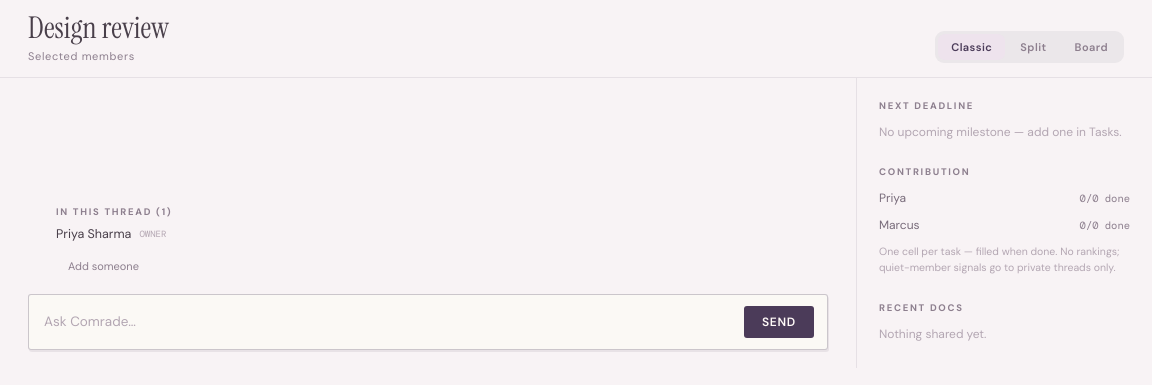
Scenario: managing who is in a restricted thread › adding someone warns that they get the whole history first
Click the button "Add someone" at (103, 266), box top-left (56, 250), bottom-right (151, 282)
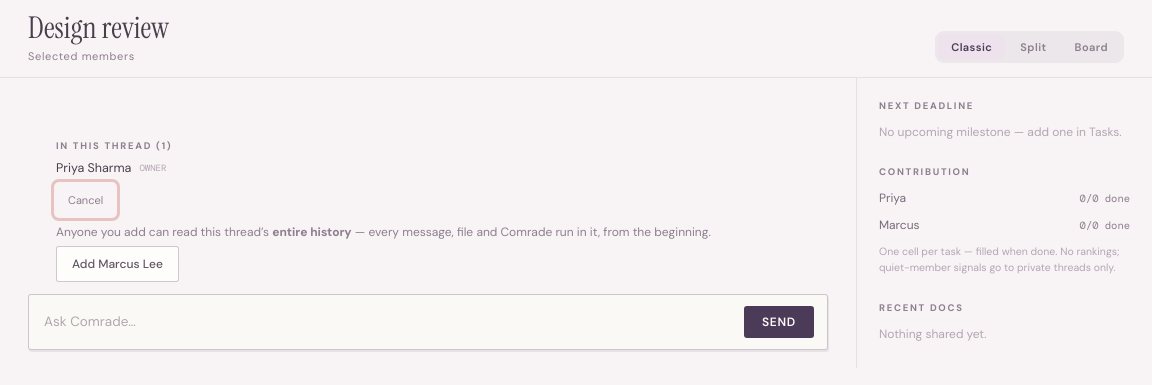
Now the element that starts with "Anyone you add can read this thread’s" shows "entire history", box top-left (272, 224), bottom-right (352, 240)
